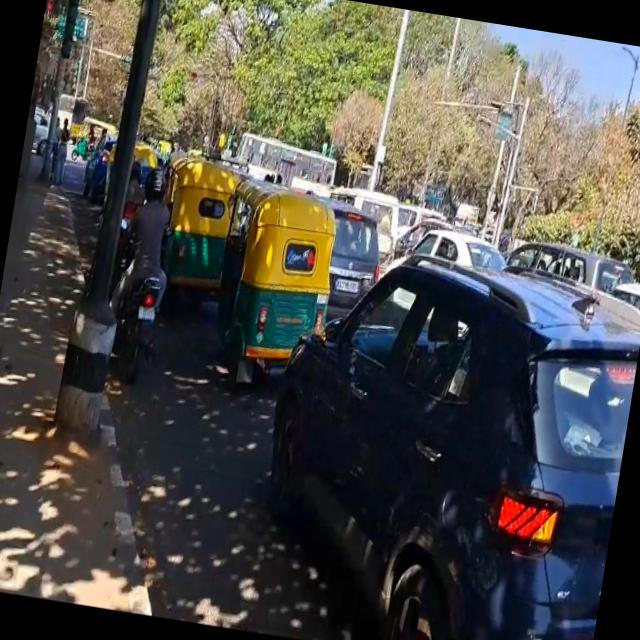cars: (239, 242, 640, 640), (506, 235, 640, 311), (314, 203, 390, 324), (408, 229, 515, 284)
